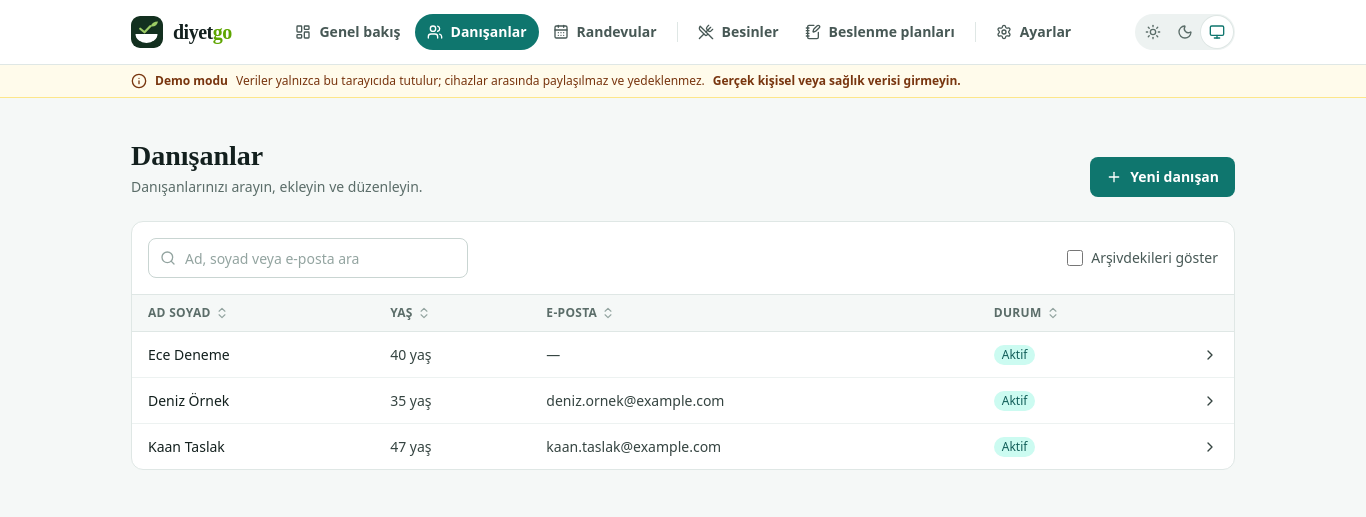
Test: Danışan listesi › arar ve sonuç yoksa bunu belirtir
Type "KAAN" into the search field named "Danışan ara" at (308, 258), box [148,238,468,278]
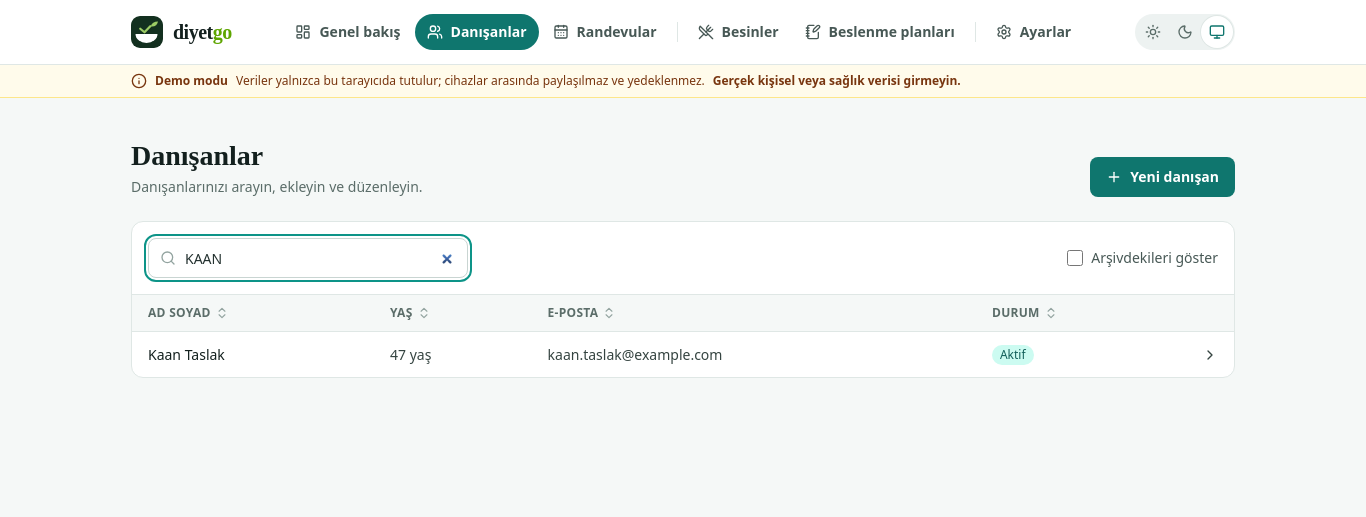
Expected: the link "Kaan Taslak" is shown, [148,344,225,364]
Replace the text in the search field named "Danışan ara" with "yok-boyle-biri" at (308, 258), box [148,238,468,278]
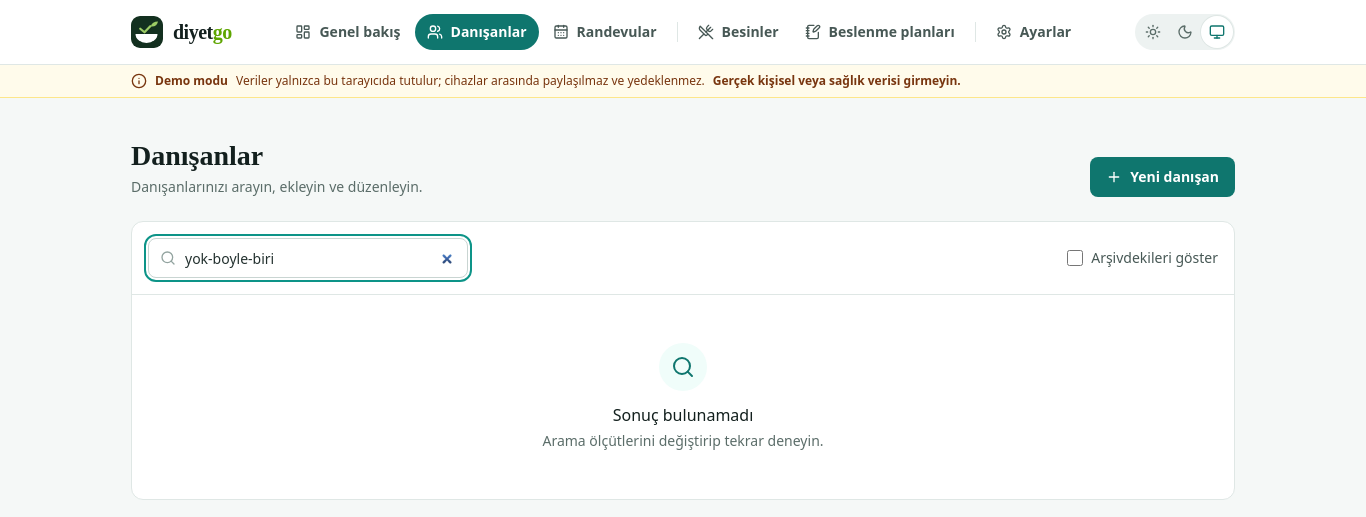
Result: the text "Sonuç bulunamadı" is shown at [613,403,753,427]
